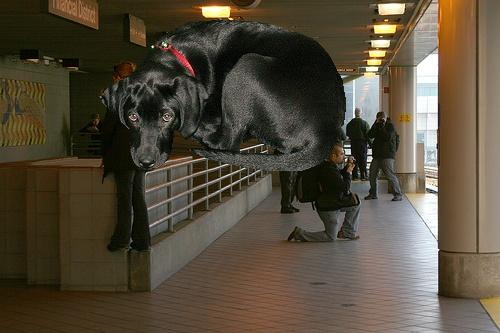tampered: (100, 21, 346, 171)
